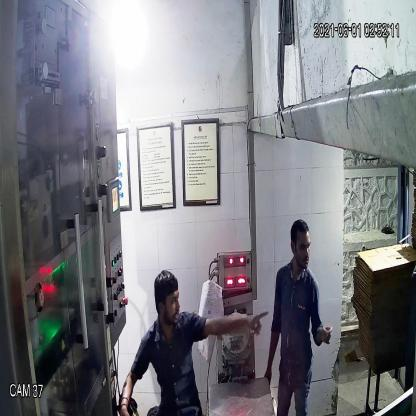no_goggles: (152, 290, 180, 309), (290, 238, 312, 254)
